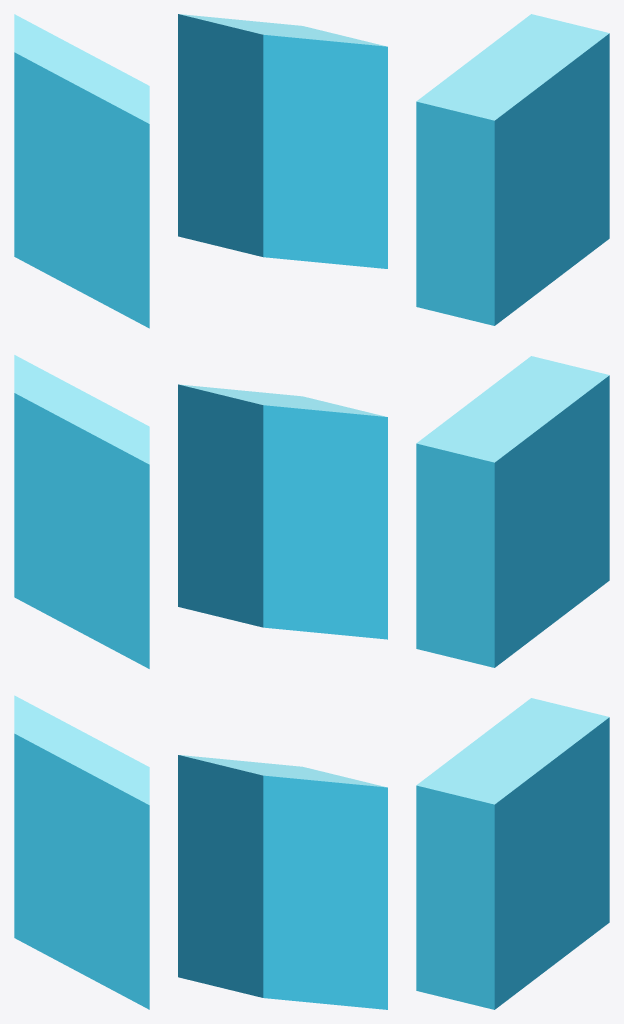
File: Link_DashV.gltf
3 renders of one model, left to right at view 1: azimuth 90°, elevation 25°; view 2: azimuth 150°, elevation 25°; view 3: azimuth 330°, elevation 25°, orthographic. The views are drawn at different scales.
Parts seen in each view (by area): view 1: Link_DashV_baked; view 2: Link_DashV_baked; view 3: Link_DashV_baked.
Part boxes in pixels (bbox=[...]): Link_DashV_baked: bbox=[14, 14, 149, 1009]; Link_DashV_baked: bbox=[178, 14, 387, 1009]; Link_DashV_baked: bbox=[416, 14, 609, 1009].
Bounding box in the file's own units: 0.128 × 0.914 × 0.12.
